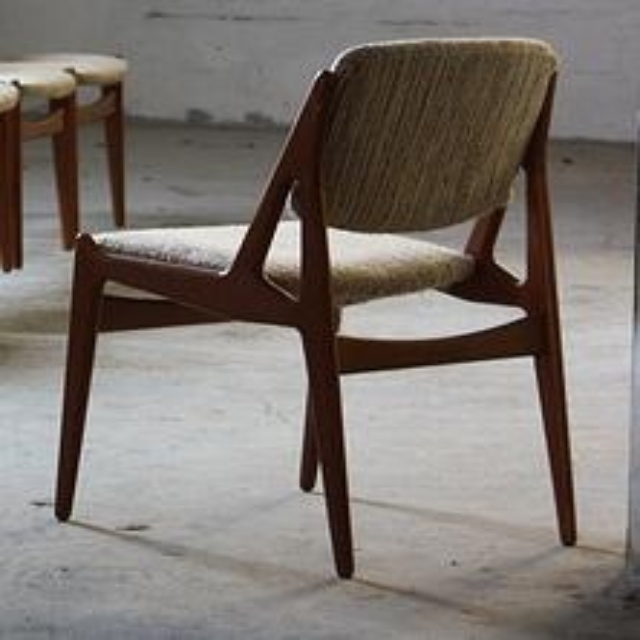obstacle: (55, 41, 574, 577)
